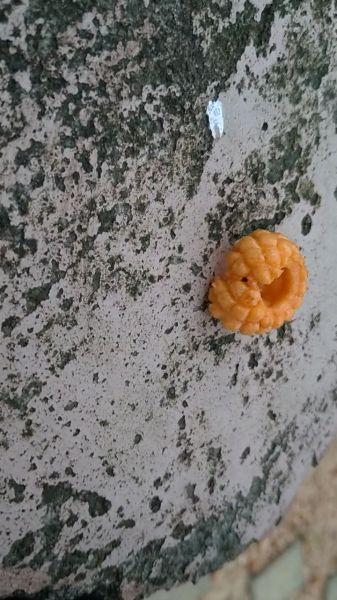eggs: (199, 222, 318, 336)
